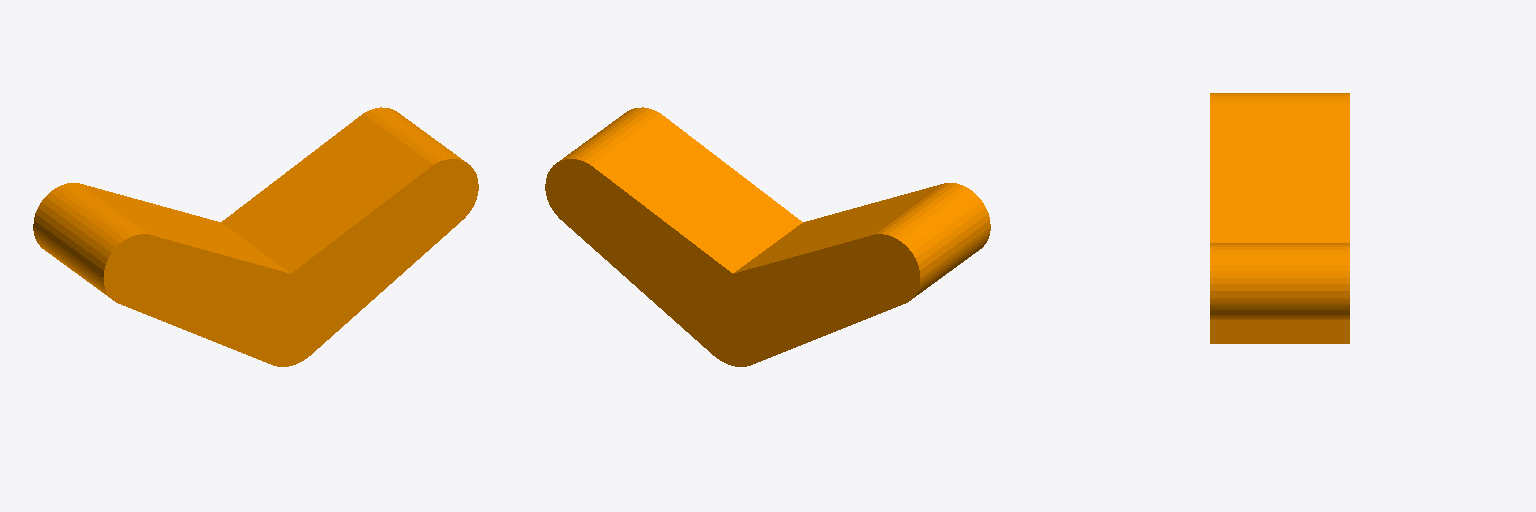
Rendered from techo.obj.
The picture shows the model from 3 angles: view 1: azimuth 30°, elevation 25°; view 2: azimuth 150°, elevation 25°; view 3: azimuth 270°, elevation 25°; orthographic projection.
Parts seen in each view (by area): view 1: path3826; view 2: path3826; view 3: path3826.
Boxes of the visible parts, x1=… form: path3826: x1=33, y1=107, x2=478, y2=366; path3826: x1=545, y1=107, x2=990, y2=366; path3826: x1=1210, y1=93, x2=1349, y2=343.
Size of the model in its own units: 6.17 by 2.65 by 2.